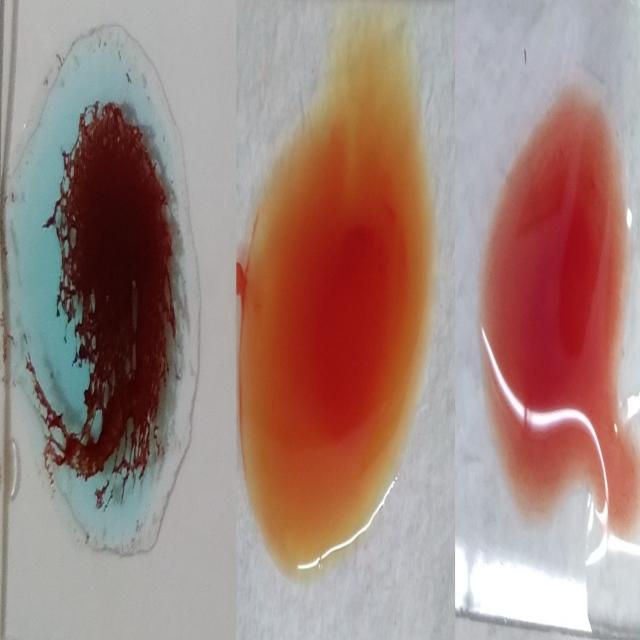A: (20, 24, 198, 550)
